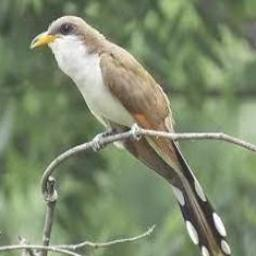Cuckoo: (32, 16, 232, 256)
